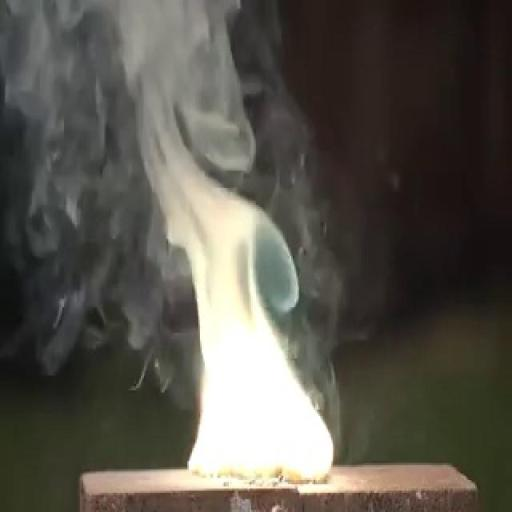smoke: (178, 248, 338, 486)
